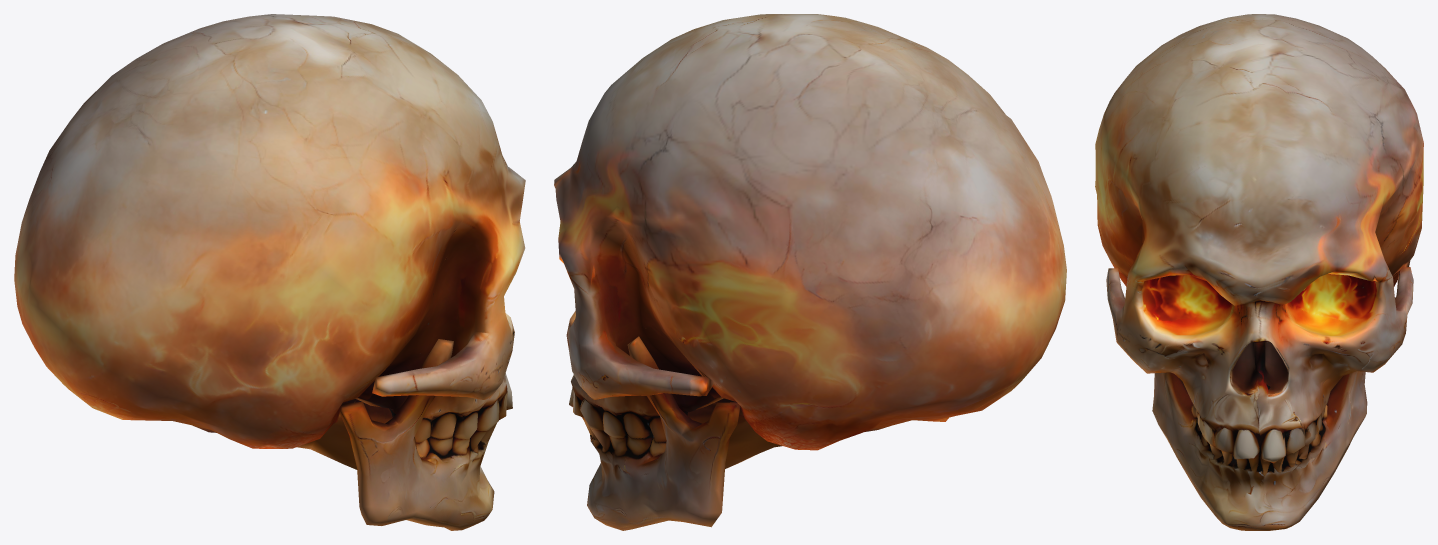
The model's file is fiery+skull+3d+model.obj.
3 renders of one model, left to right at view 1: azimuth 30°, elevation 25°; view 2: azimuth 150°, elevation 25°; view 3: azimuth 270°, elevation 25°, orthographic. The views are drawn at different scales.
Parts seen in each view (by area): view 1: tripo_node_d578ca28-2a09-4a60-ba6d-a77d617900bf; view 2: tripo_node_d578ca28-2a09-4a60-ba6d-a77d617900bf; view 3: tripo_node_d578ca28-2a09-4a60-ba6d-a77d617900bf.
Part boxes in pixels (box(x1,y1,x2,y2)): tripo_node_d578ca28-2a09-4a60-ba6d-a77d617900bf: box(14, 14, 525, 530); tripo_node_d578ca28-2a09-4a60-ba6d-a77d617900bf: box(554, 14, 1066, 530); tripo_node_d578ca28-2a09-4a60-ba6d-a77d617900bf: box(1095, 14, 1423, 530).
Size of the model in its own units: 0.9417 by 1 by 0.7061.
